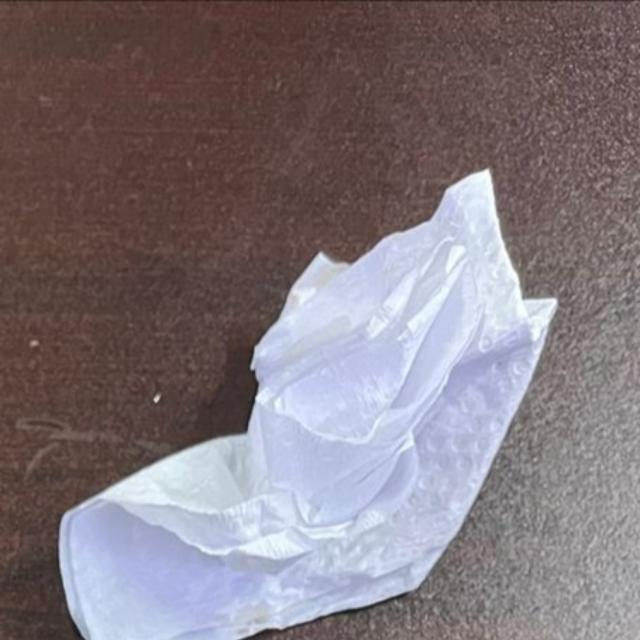kitchen paper: (53, 163, 564, 640)
